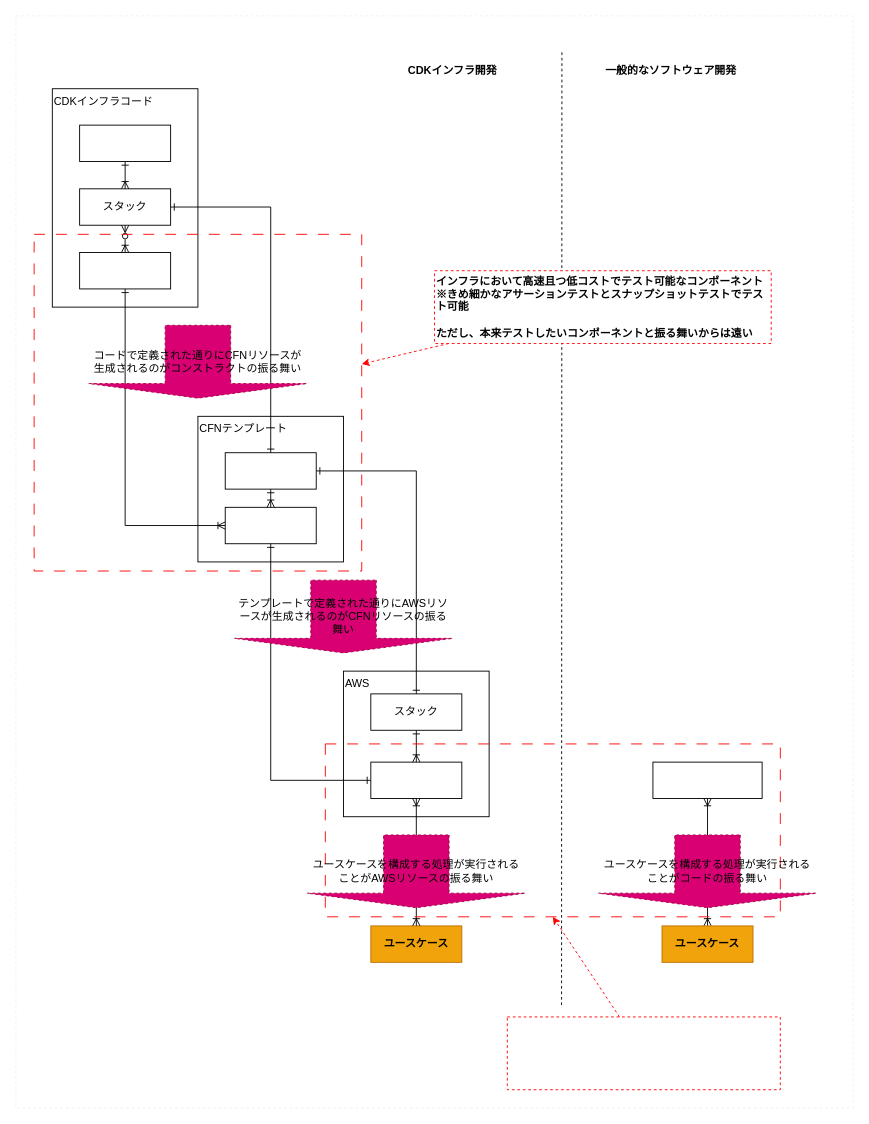
This 869x1124 diagram has some shape labels left out. The centre of each missing label's shape, as x and y in pixels:
AWSリソース: (416,780)
CFNリソース: (270,525)
アプリケーション: (125,143)
コンストラクト: (125,270)
コード: (707,780)
テンプレート: (270,470)
本来ユニットテストしたいコンポーネント 一般的なソフトウェアであれば高速且つ低コストで単体テスト可能だが、インフラの場合は非常に困難: (643,1053)
